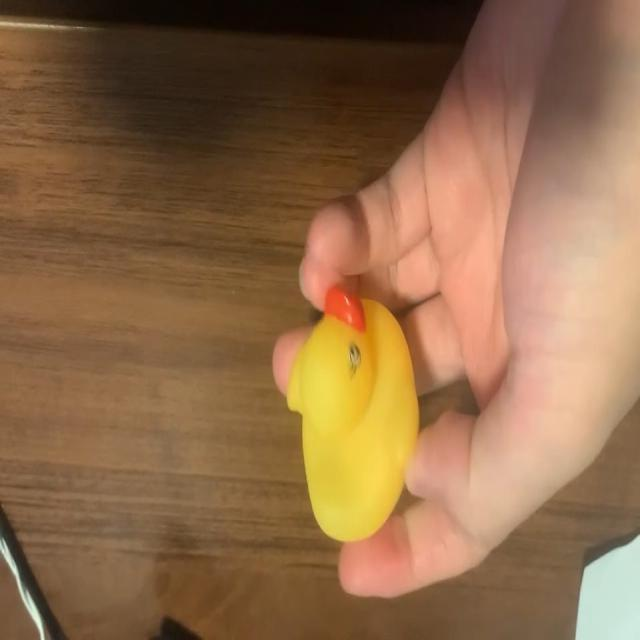rubber-duck: (286, 287, 417, 539)
